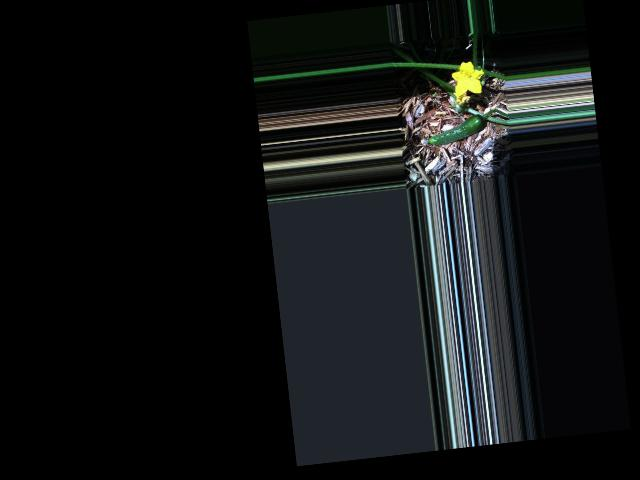cucumber: (420, 113, 487, 147)
